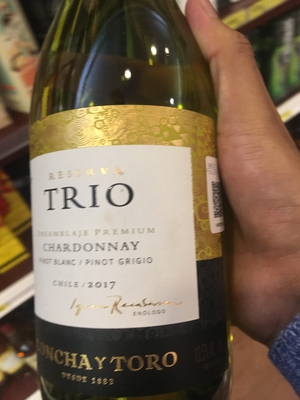trio chardonnay: (15, 34, 244, 400)
